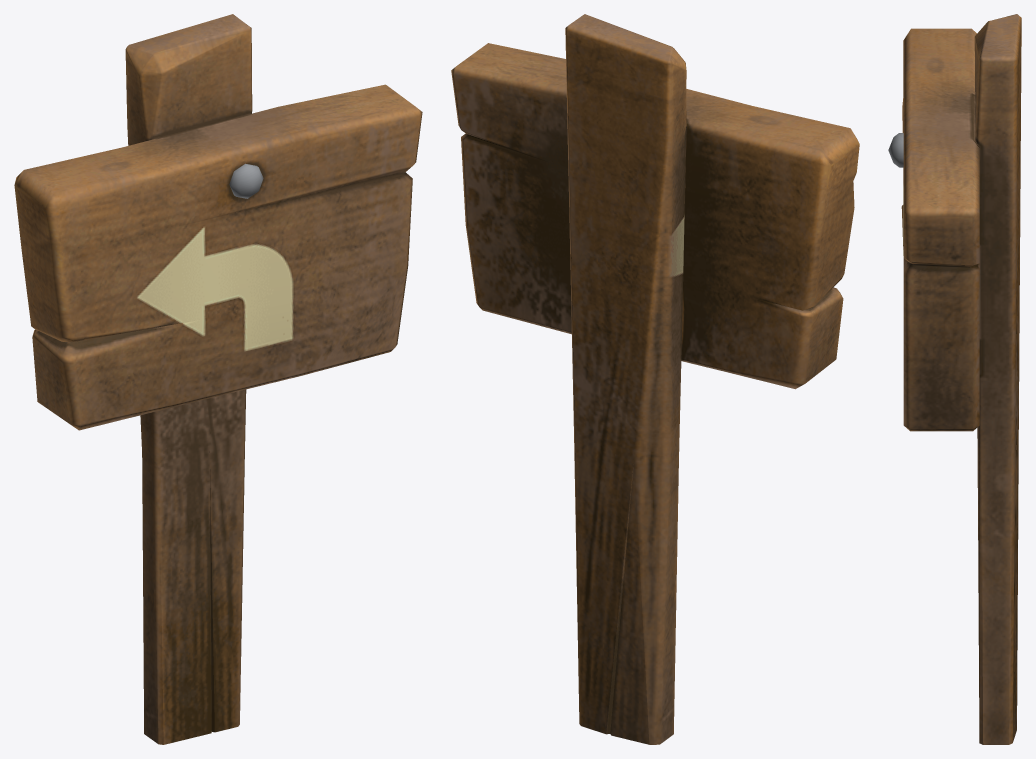
File: wood_L.fbx
The picture shows the model from 3 angles, left to right: view 1: azimuth 30°, elevation 25°; view 2: azimuth 150°, elevation 25°; view 3: azimuth 270°, elevation 25°; orthographic projection.
Parts seen in each view (by area): view 1: wood_L; view 2: wood_L; view 3: wood_L.
Part boxes in pixels (left/top/right/bottom): wood_L: left=14, top=14, right=422, bottom=744; wood_L: left=451, top=14, right=859, bottom=744; wood_L: left=888, top=14, right=1021, bottom=744.
Bounding box in the file's own units: 113 × 200 × 34.85.
